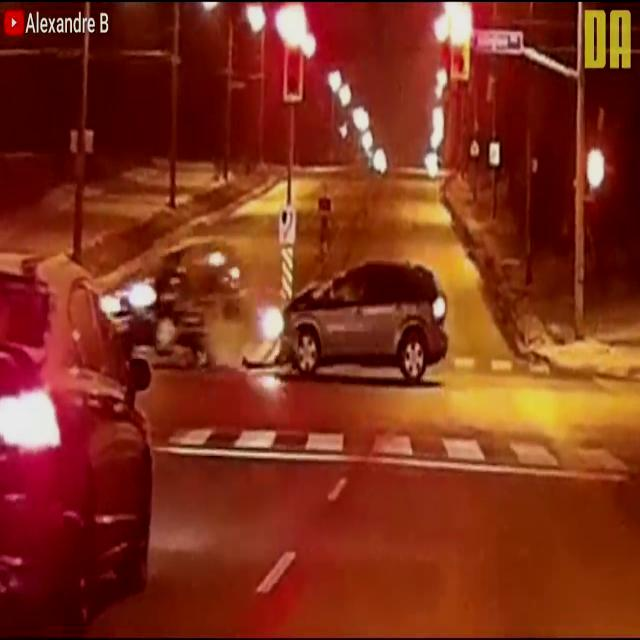accident: (102, 240, 452, 384)
